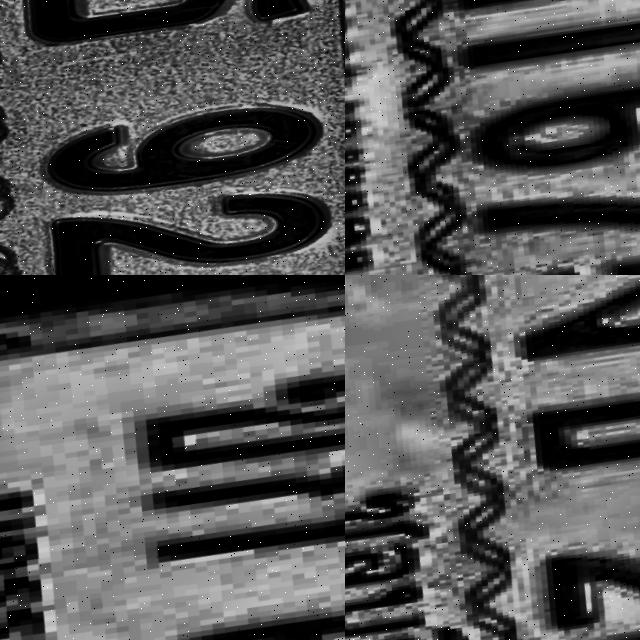license-plate: (0, 275, 345, 640), (345, 275, 640, 640), (0, 0, 345, 275), (345, 0, 640, 275)
